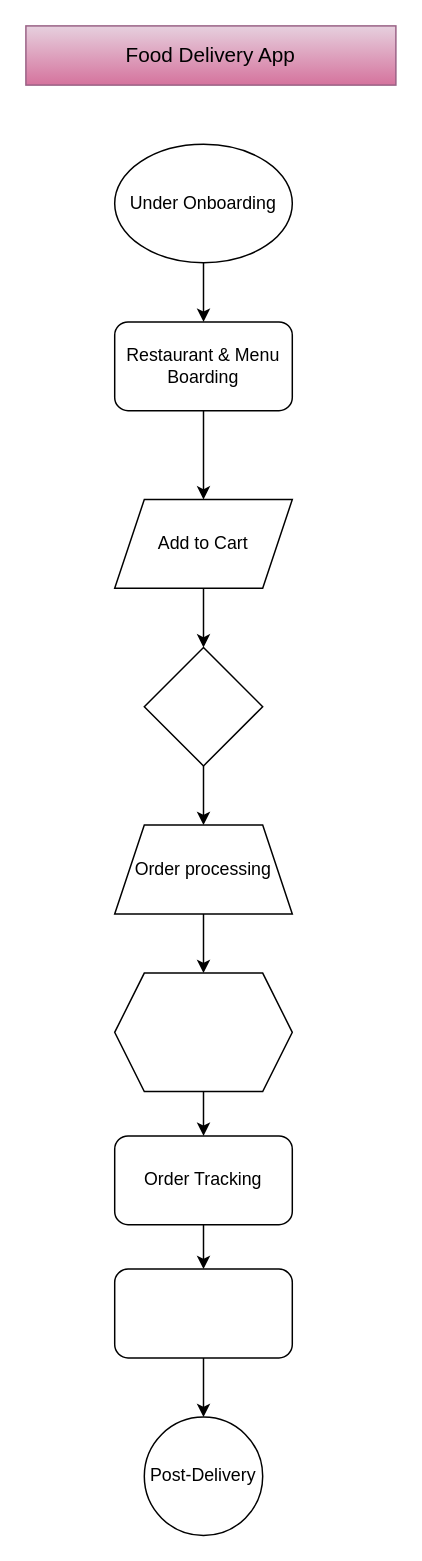
Some shapes in this 422 by 1561 pixel diagram are drawn without their labels. Here are the shapes that lost their labels. From the top down, the centre of each, then its label:
At point 203,706: "Checkout Process".
At point 202,1032: "Delivery Assignment".
At point 202,1313: "Order Delivered".
